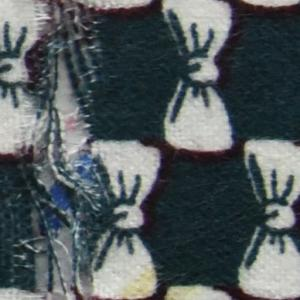Damage: (7, 1, 108, 300)
Stain: (118, 259, 207, 300)
